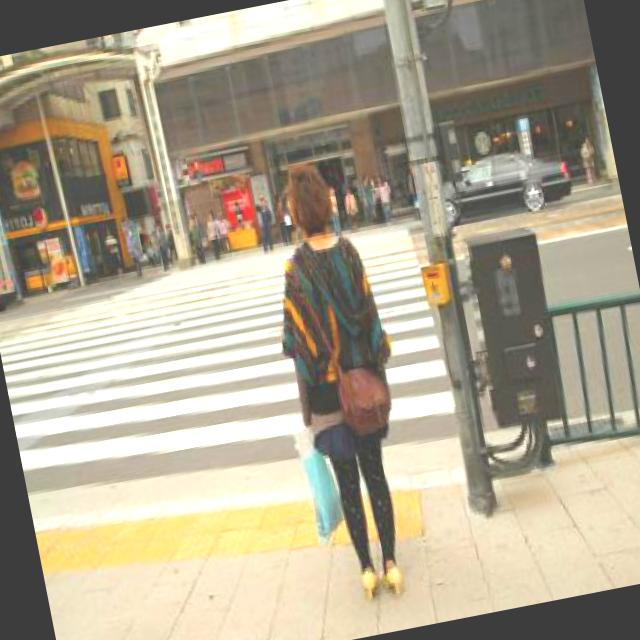Person: (256, 159, 427, 606), (373, 172, 396, 222), (202, 208, 224, 258)
